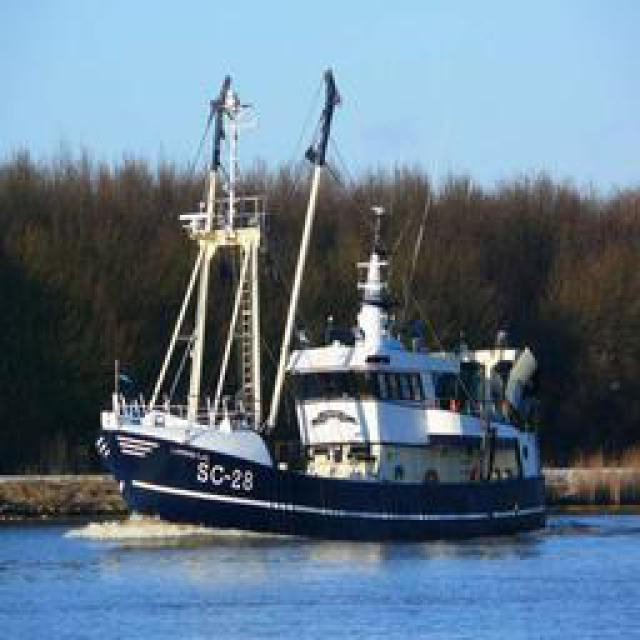Ship: (94, 36, 559, 536)
